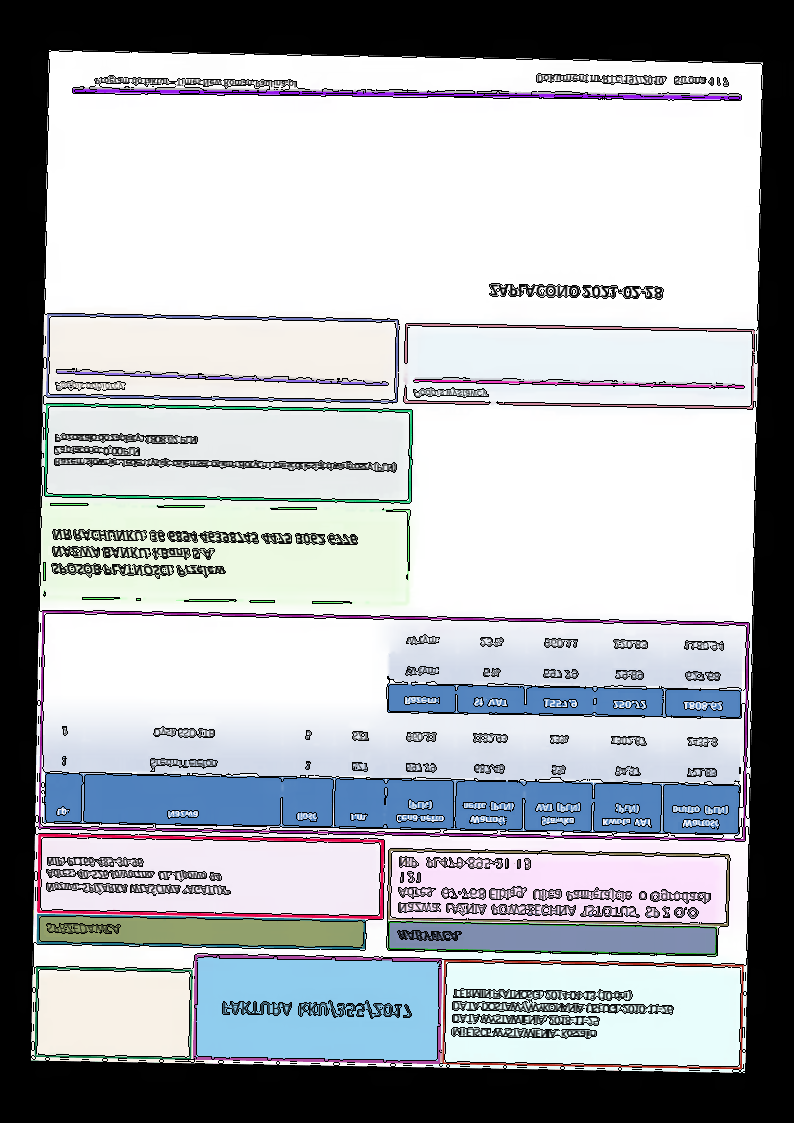Table: (42, 710, 742, 836), (386, 620, 745, 720)
TextBox: (394, 854, 712, 922), (48, 523, 359, 586), (52, 430, 401, 477), (450, 985, 674, 1046), (44, 855, 233, 898), (220, 996, 414, 1022), (535, 71, 733, 90), (91, 73, 299, 91), (488, 282, 665, 303), (43, 920, 124, 940), (412, 384, 492, 402), (52, 378, 127, 396), (396, 927, 464, 946)
